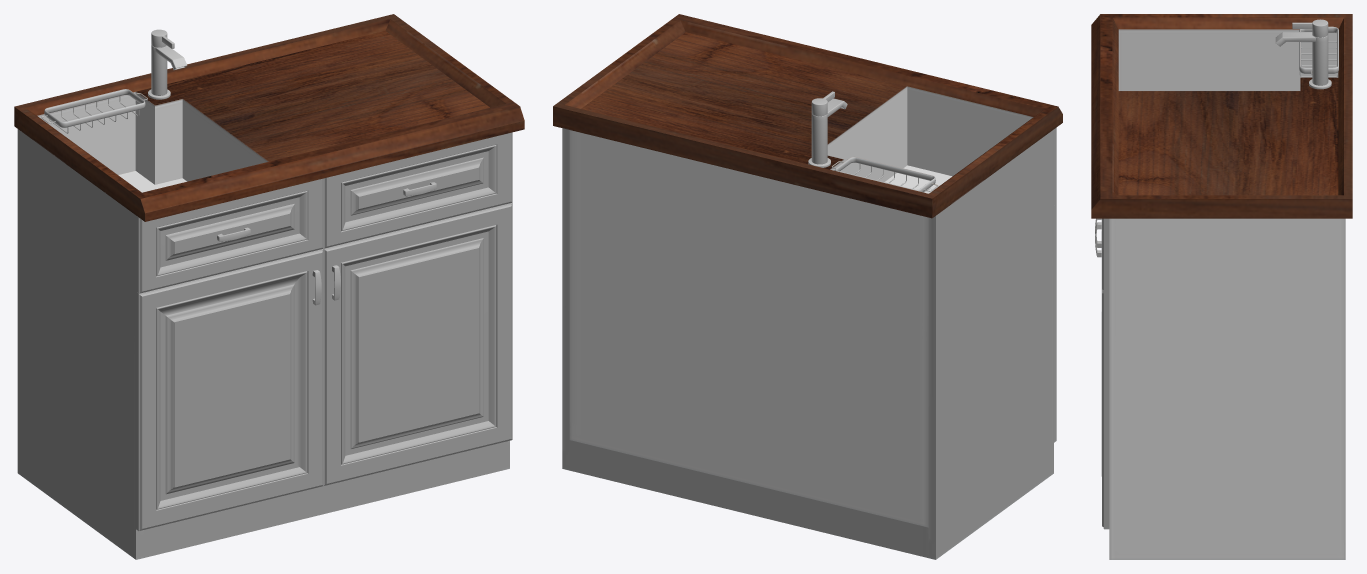
File: visual_LowPoly_20_CounterWithSink.dae
3 renders of one model, left to right at view 1: azimuth 30°, elevation 25°; view 2: azimuth 150°, elevation 25°; view 3: azimuth 270°, elevation 25°, orthographic.
Visible parts, largest first — view 1: SM_counter_sink; view 2: SM_counter_sink; view 3: SM_counter_sink.
Part boxes in pixels (left/top/right/bottom): SM_counter_sink: left=14, top=14, right=524, bottom=559; SM_counter_sink: left=553, top=14, right=1062, bottom=559; SM_counter_sink: left=1091, top=14, right=1352, bottom=559.
Bounding box in the file's own units: 104 × 61.95 × 109.
1 material, 1 textured.
